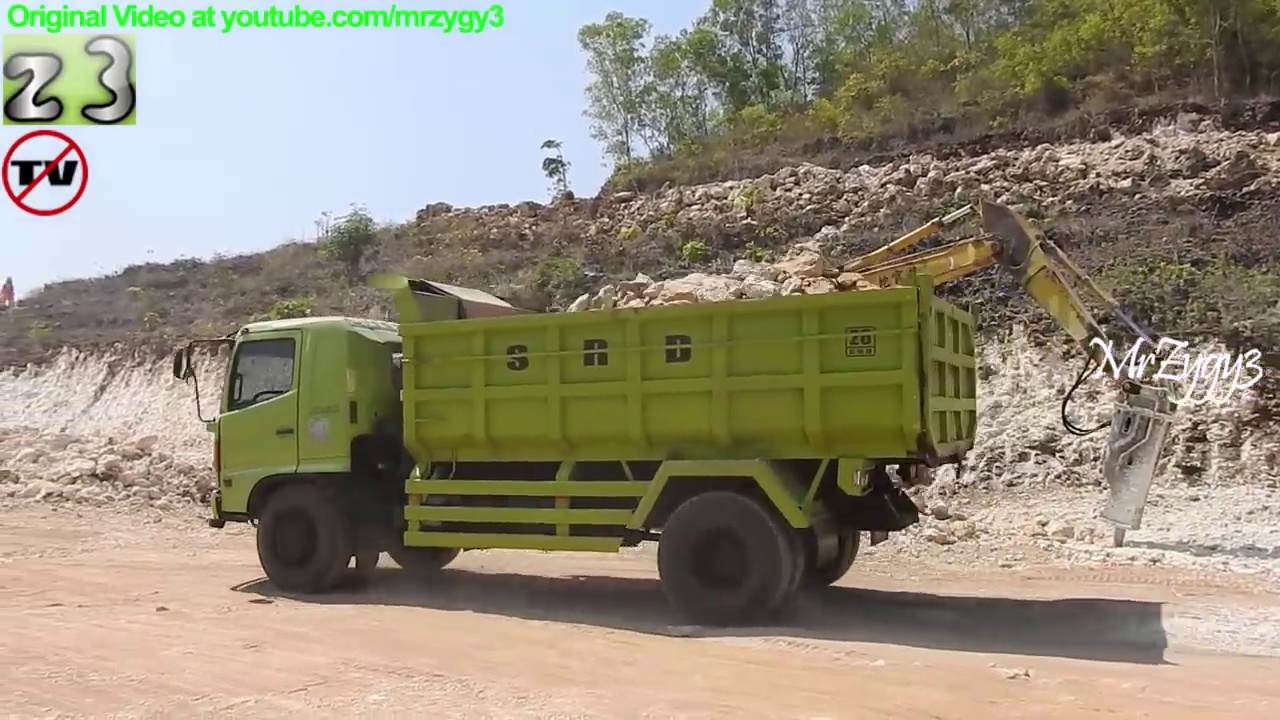excavator: (672, 198, 1189, 554)
truck: (169, 271, 986, 628)
